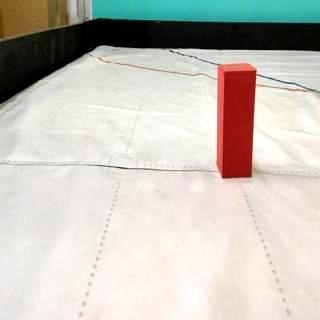redbox: (215, 63, 258, 178)
